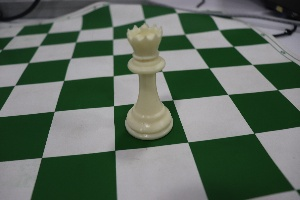white_queen: (117, 19, 179, 144)
